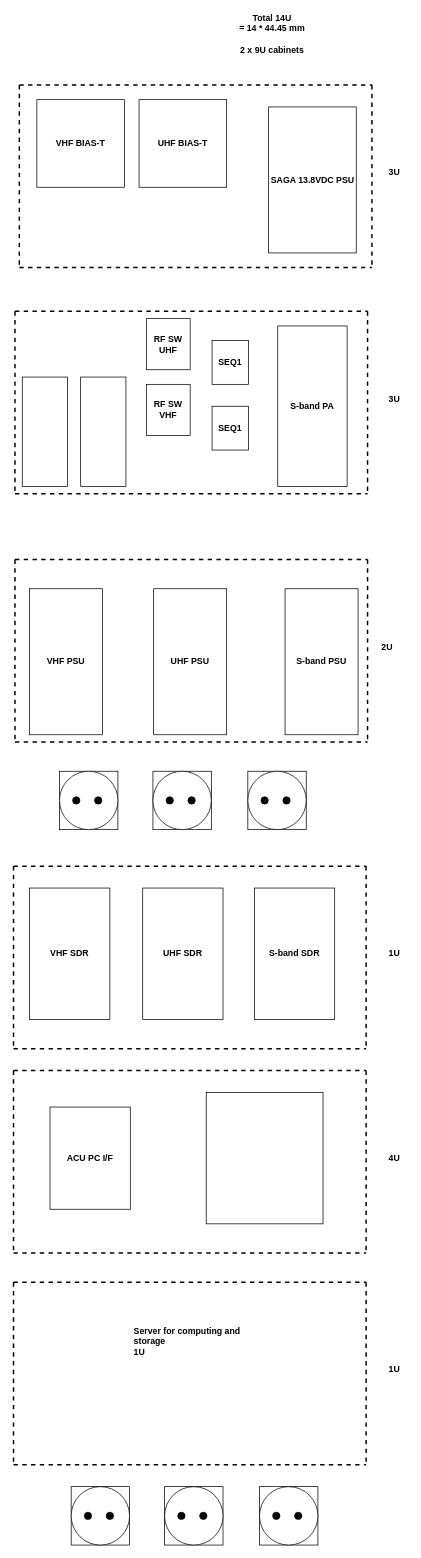
This 421x1558 diagram has some shape labels left out. The shapes that lost their labels are listed below. From the top down, each one's centre as x and y in pixels, then its label:
the point at 45,431: VHF PA
the point at 103,431: UHF PA
the point at 264,1158: ACU
